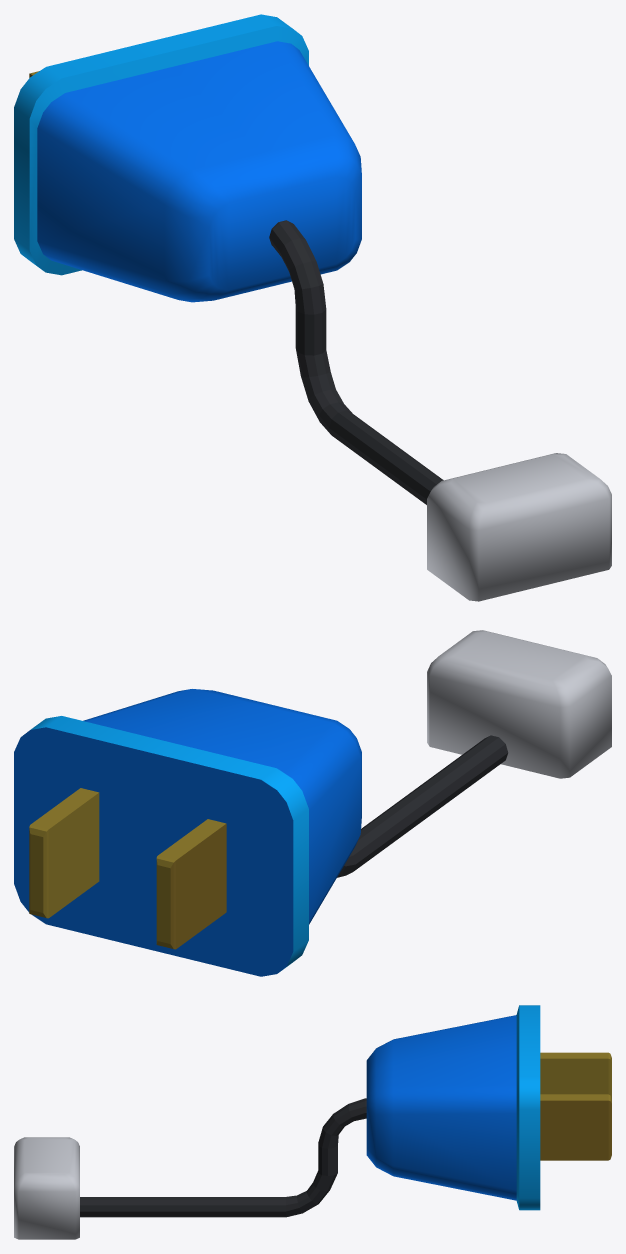
File: NF_Elect_Plug_A.fbx
3 views of the same model, one above another, from view 1: azimuth 30°, elevation 25°; view 2: azimuth 150°, elevation 25°; view 3: azimuth 270°, elevation 25° (orthographic). The views are drawn at different scales.
Parts seen in each view (by area): view 1: NF_Elect_Plug_A; view 2: NF_Elect_Plug_A; view 3: NF_Elect_Plug_A.
Part boxes in pixels (x1,y1,x2,y2): NF_Elect_Plug_A: (14,14,611,601); NF_Elect_Plug_A: (14,630,611,976); NF_Elect_Plug_A: (14,1005,611,1239).
Bounding box in the file's own units: 0.8217 × 0.7289 × 2.26.
Materials: 1 (1 with a texture image).
